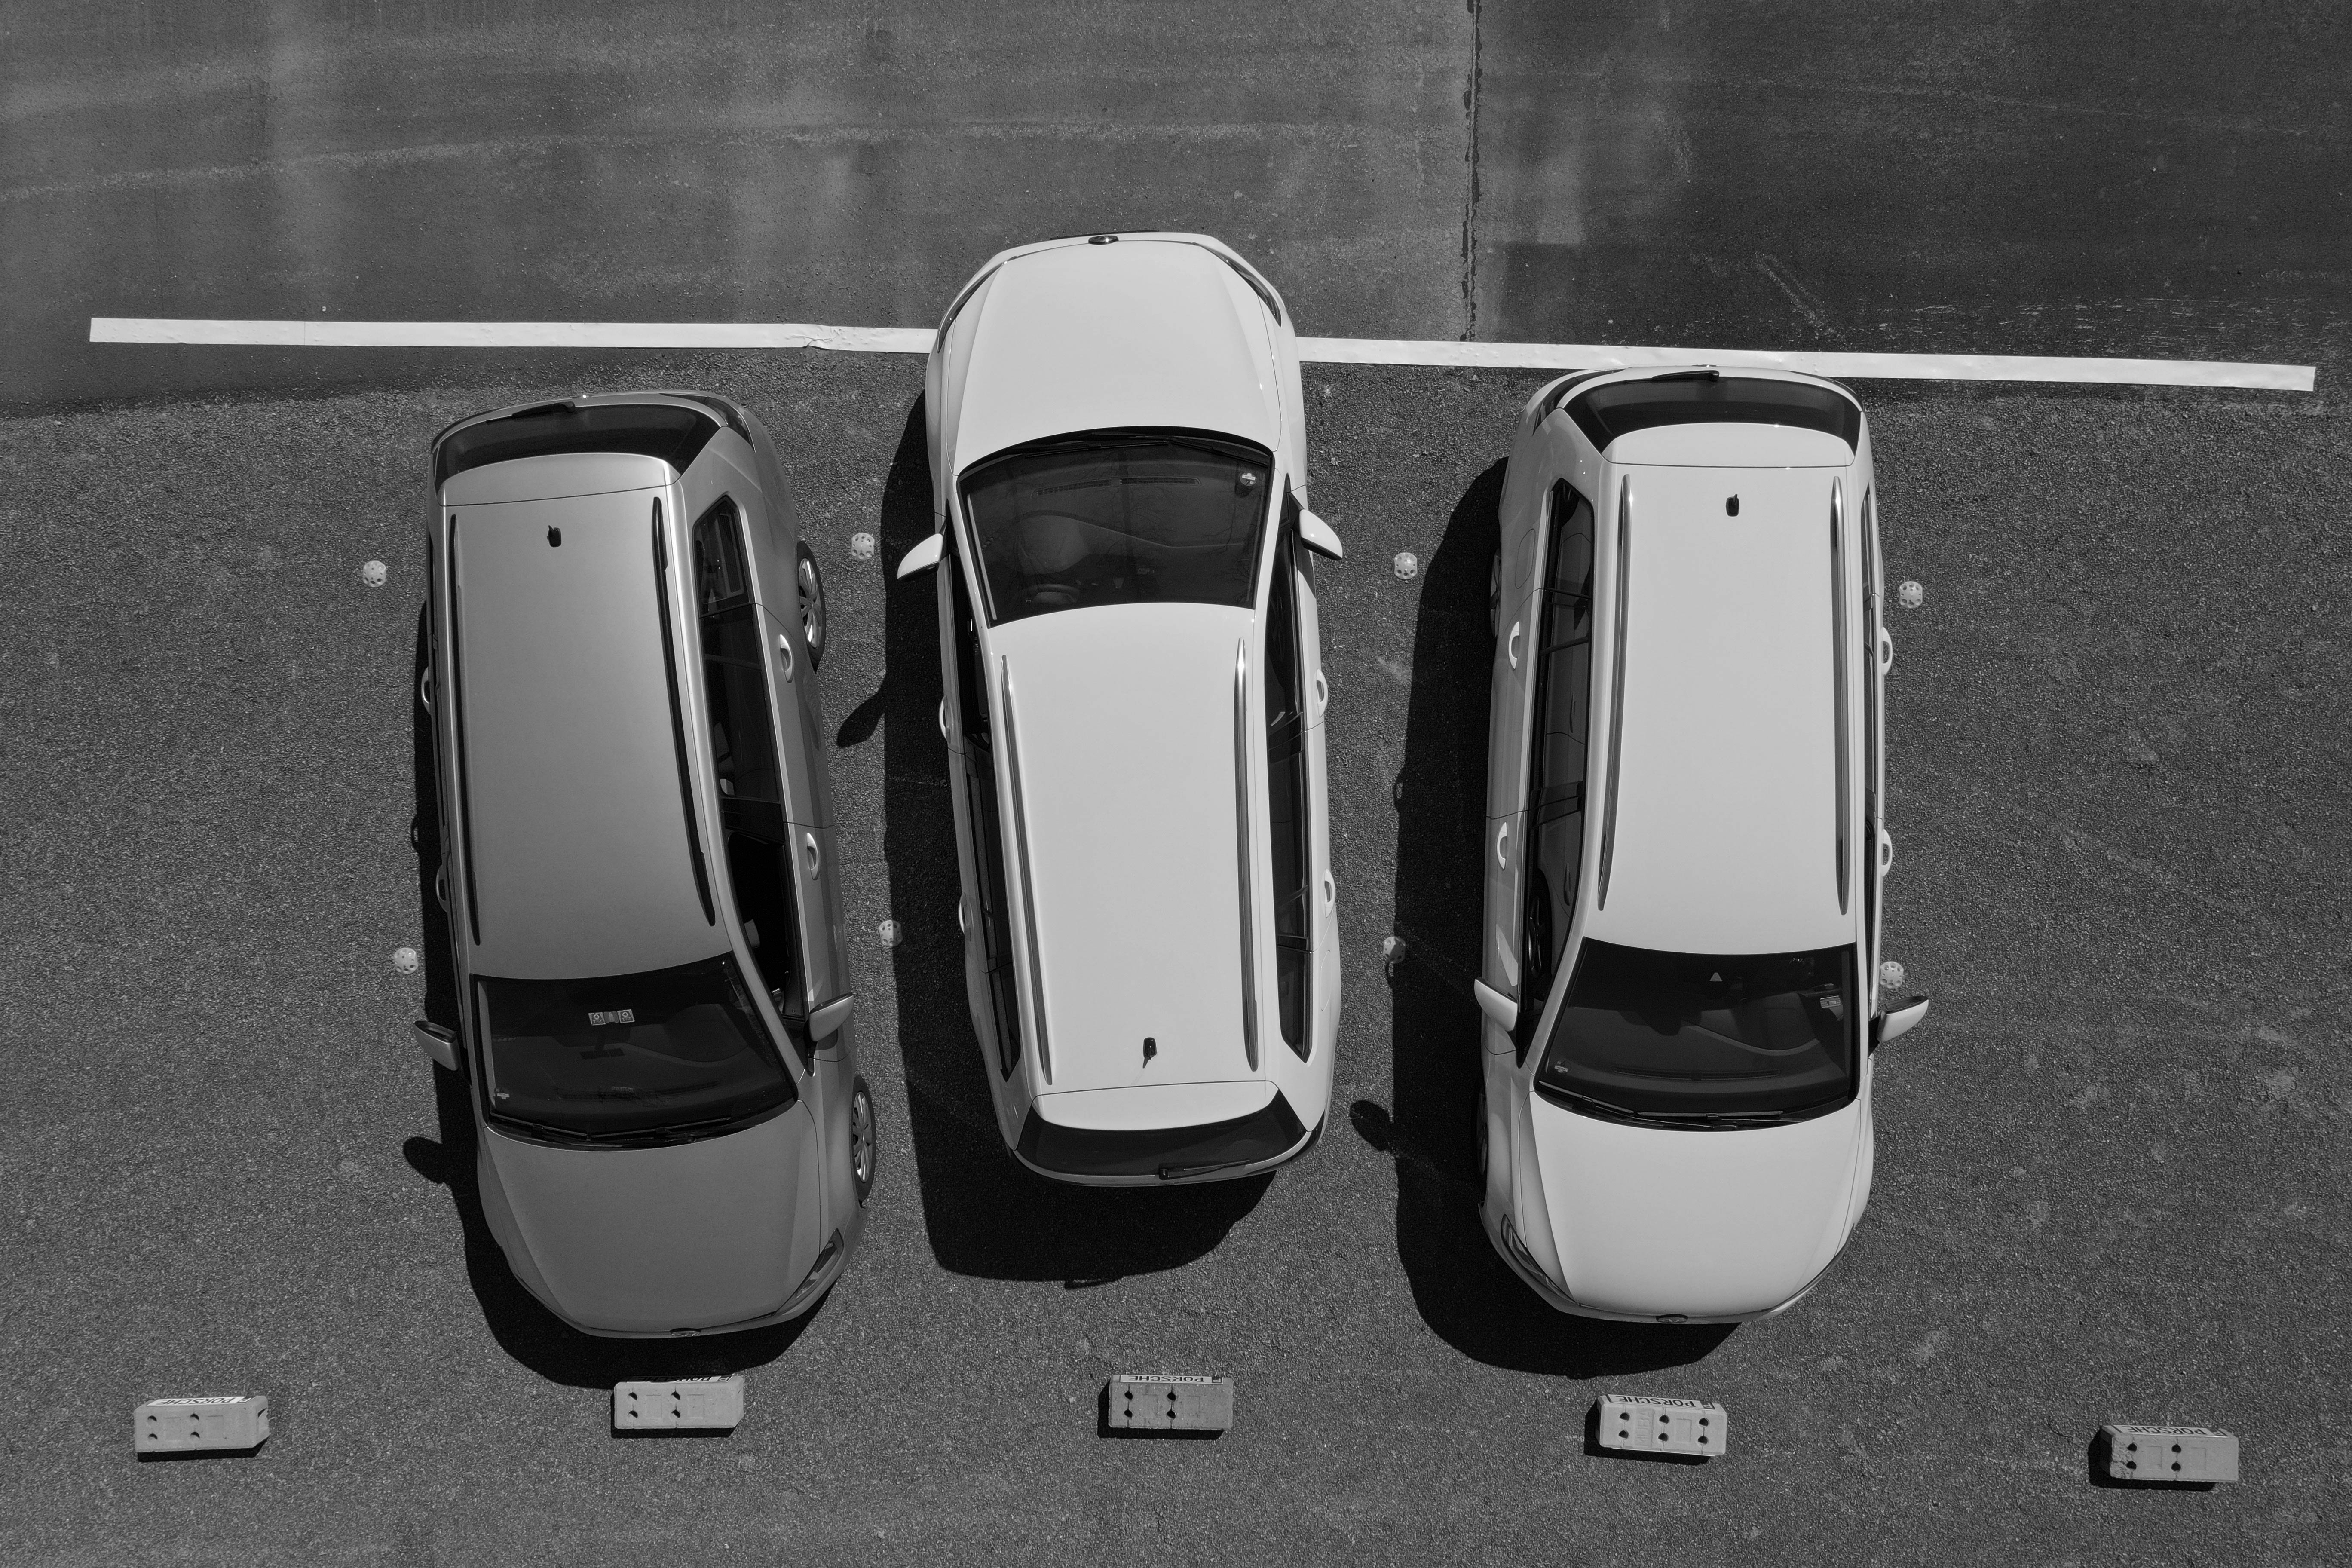Car: (1456, 334, 1951, 1360), (416, 380, 868, 1372), (922, 210, 1340, 1207)
LaneMark: (1305, 329, 2315, 401), (87, 310, 933, 355)
